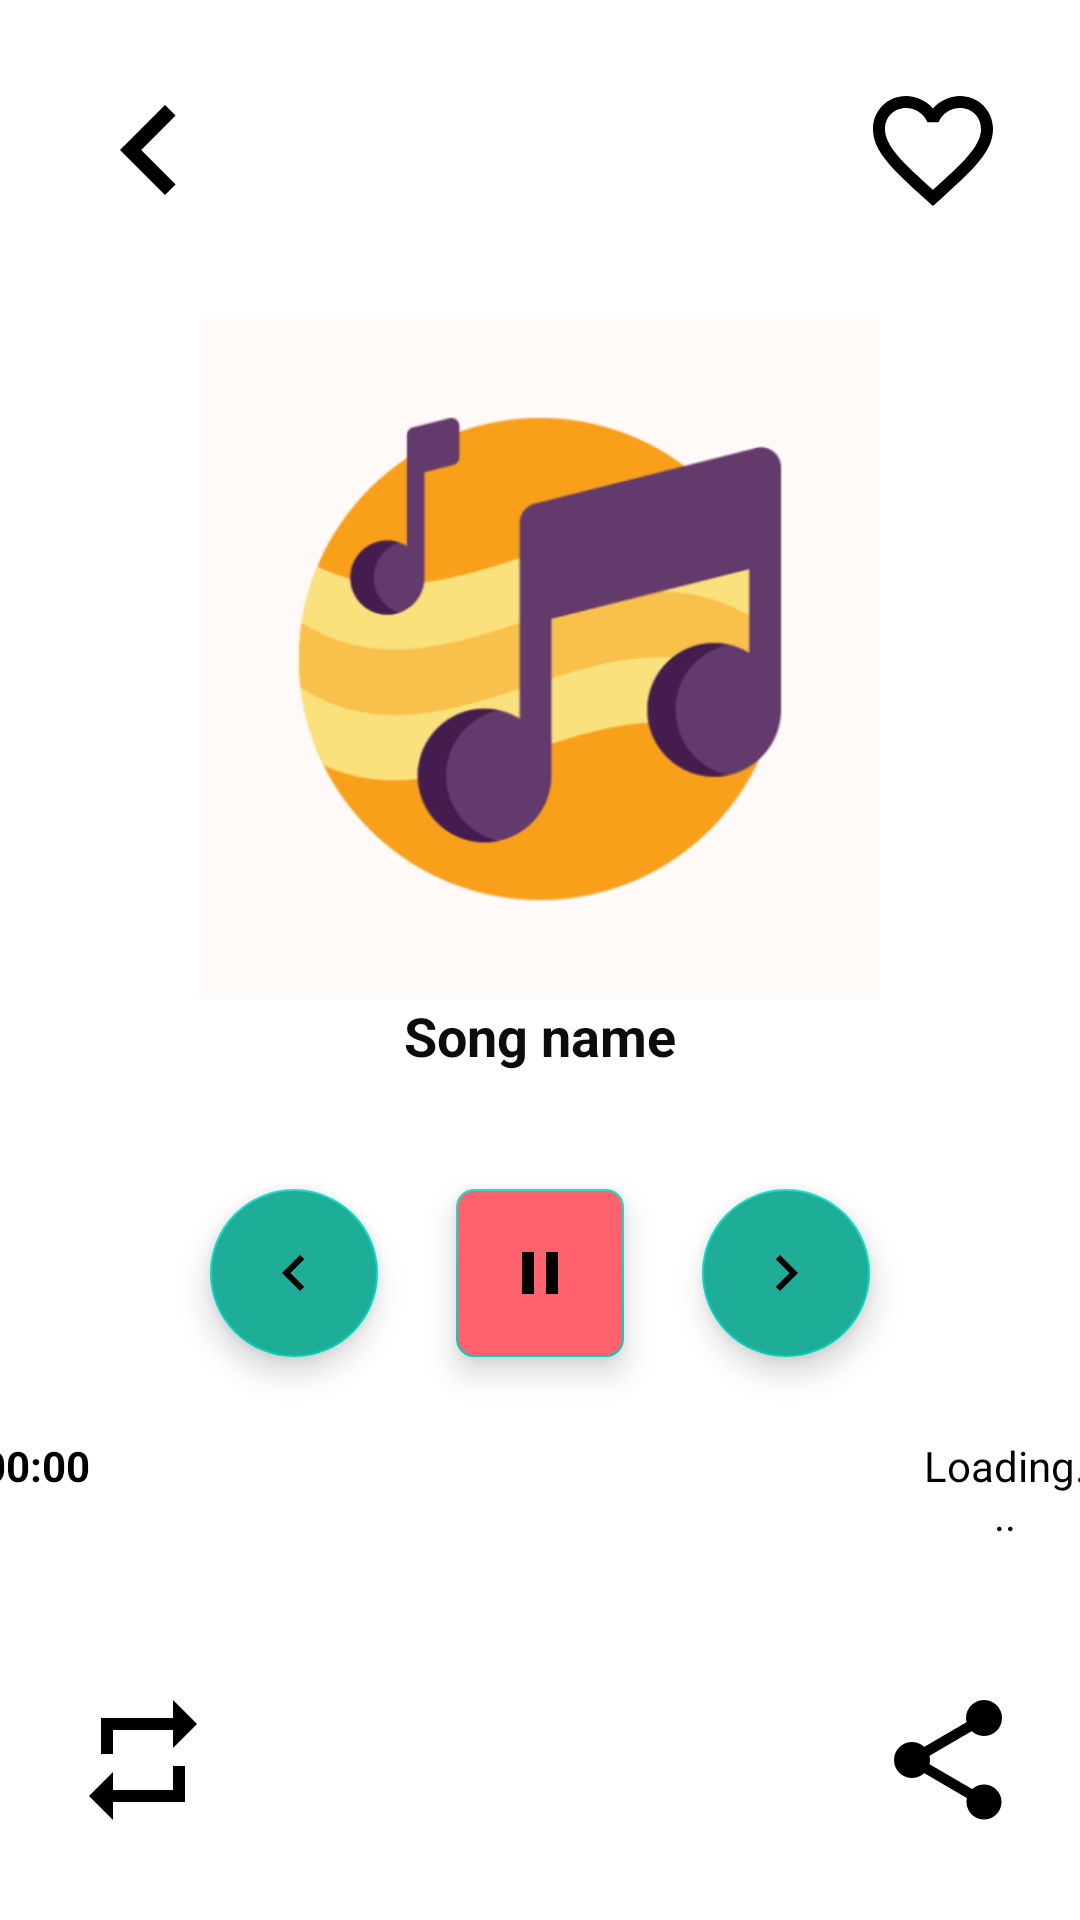

Where icons sit on this 1080px×1920px app screen, as (x1,y1,x2,y2):
Back: (120,105,176,195)
favouirte empty: (873,96,993,206)
navigate next: (702,1189,870,1357)
pause: (456,1189,624,1357)
repeat: (89,1700,197,1820)
